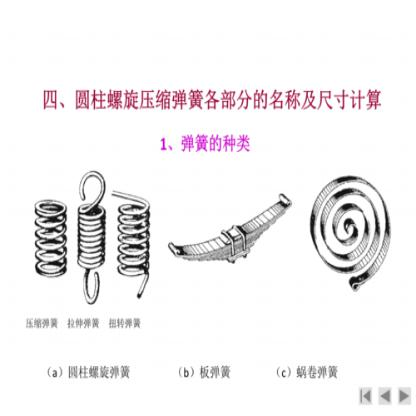FOD: (305, 172, 399, 292), (167, 191, 292, 267), (73, 170, 108, 307), (110, 185, 151, 298), (31, 195, 66, 281)
